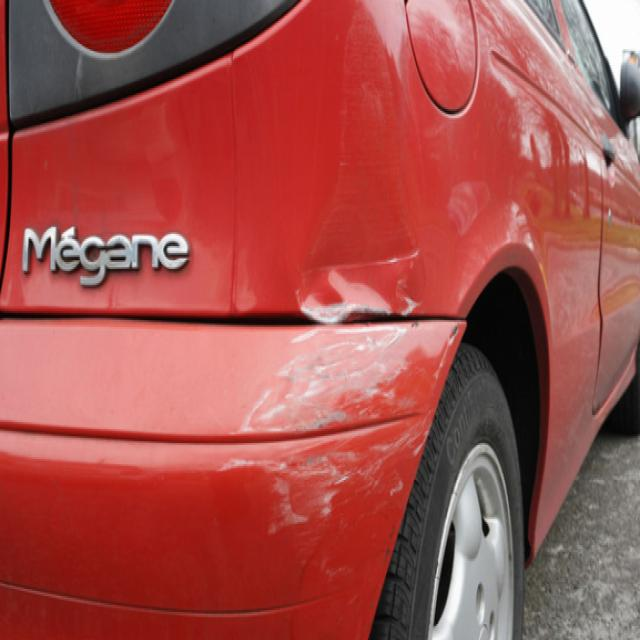scratch: (212, 324, 467, 586), (293, 245, 427, 326)
